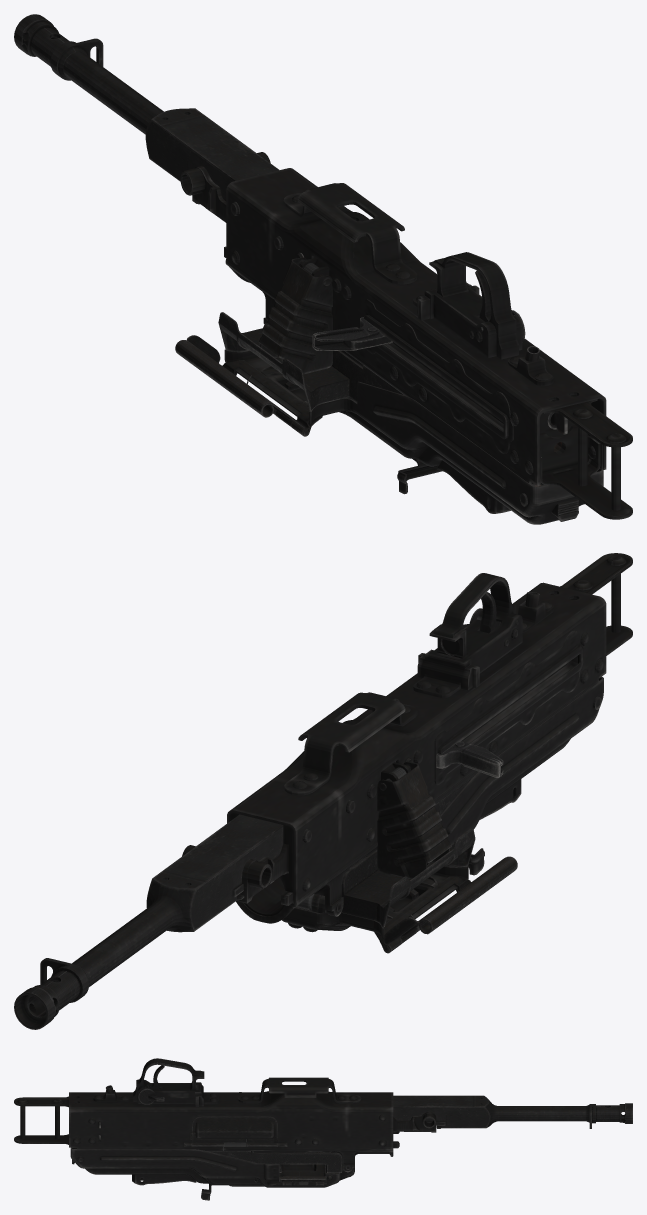
The picture shows the model from 3 angles, top to bottom: view 1: azimuth 30°, elevation 25°; view 2: azimuth 150°, elevation 25°; view 3: azimuth 270°, elevation 25°; orthographic projection. The views are drawn at different scales.
Parts seen in each view (by area): view 1: TW_64637076203536ad5600c990_PZ_Import; view 2: TW_64637076203536ad5600c990_PZ_Import; view 3: TW_64637076203536ad5600c990_PZ_Import.
Boxes of the visible parts, <box> form: TW_64637076203536ad5600c990_PZ_Import: <box>14,14,632,524</box>; TW_64637076203536ad5600c990_PZ_Import: <box>14,553,632,1029</box>; TW_64637076203536ad5600c990_PZ_Import: <box>14,1058,632,1200</box>.
Bounding box in the file's own units: 0.0754 × 0.3816 × 0.0897.
1 material, 1 textured.
